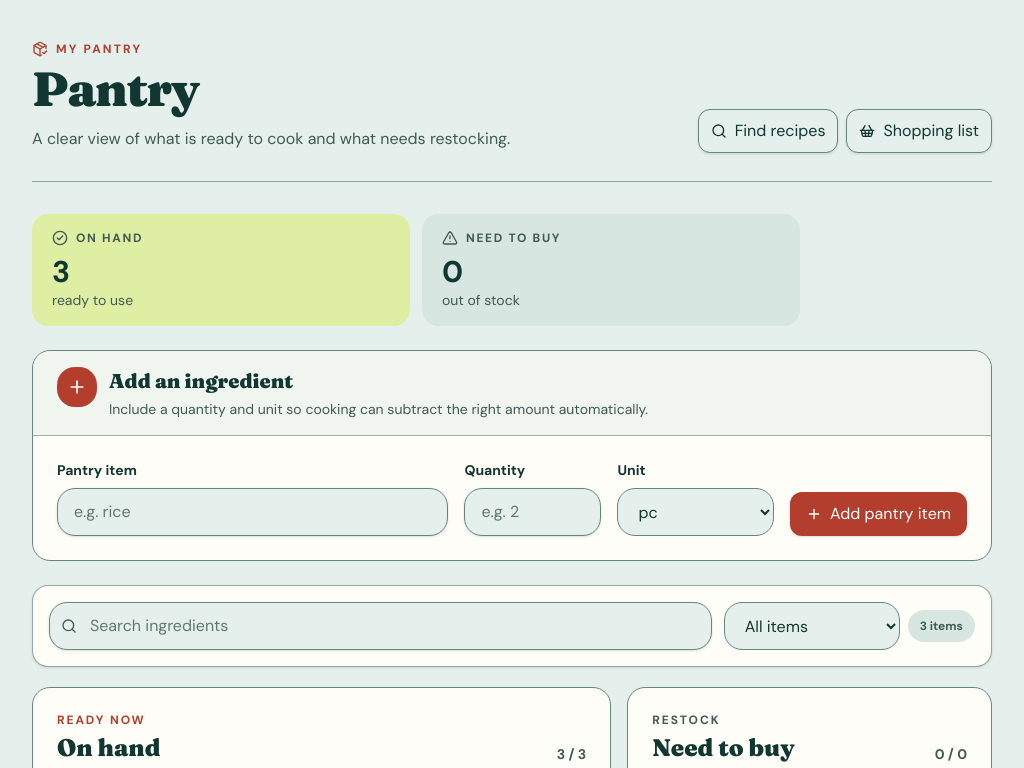
Test: PantryPage › filters inventory by ingredient and stock status
The image size is (1024, 768).
Type "milk" into the field named "Search pantry" at point(380, 626), box [49, 602, 712, 650]
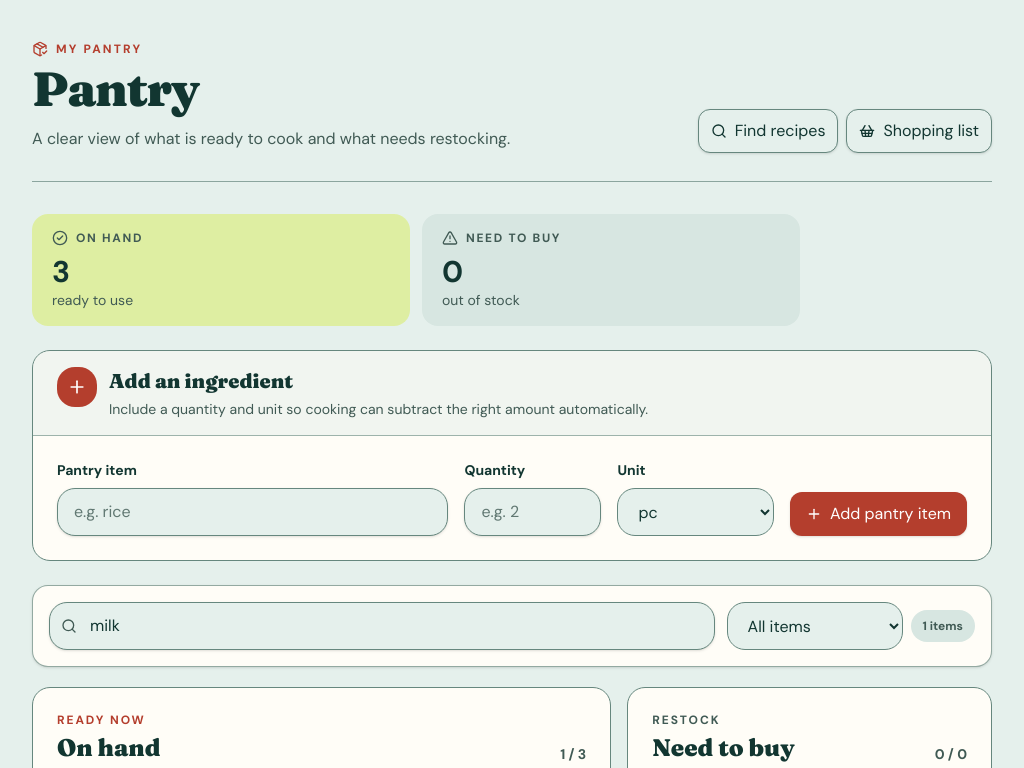
Select "Need to buy" in the dropdown named "Filter pantry" at point(815, 626), box [727, 602, 903, 650]
(page scrolled)
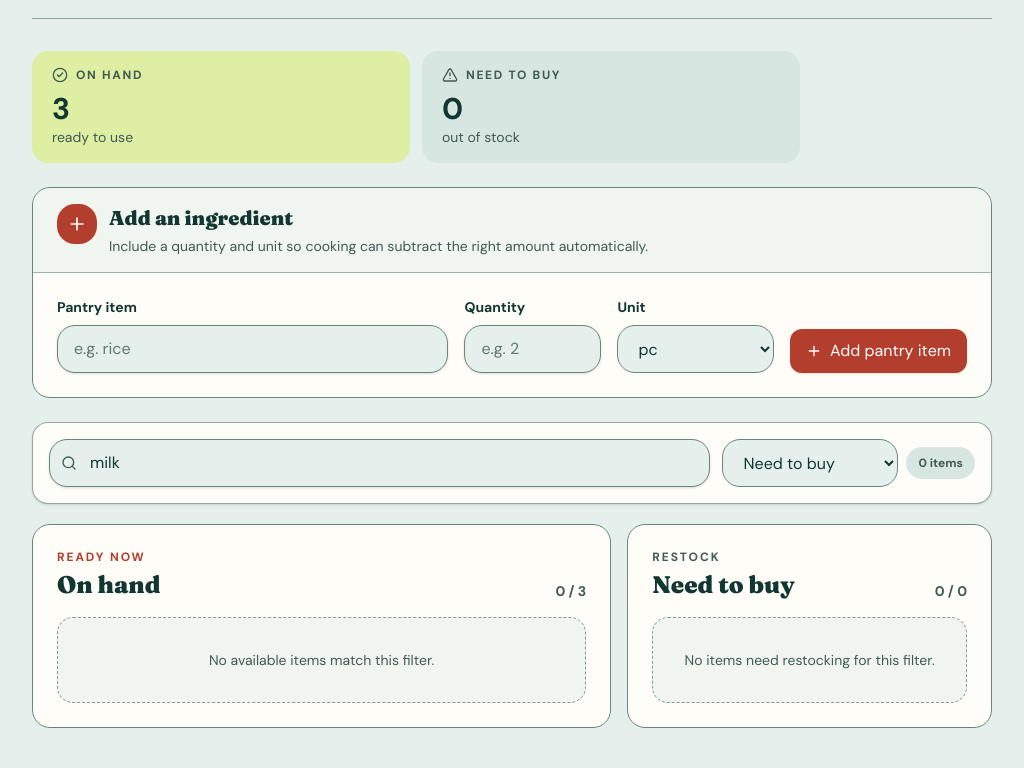
Expected: the text "No available items match this filter." is shown, [57, 617, 586, 703]
